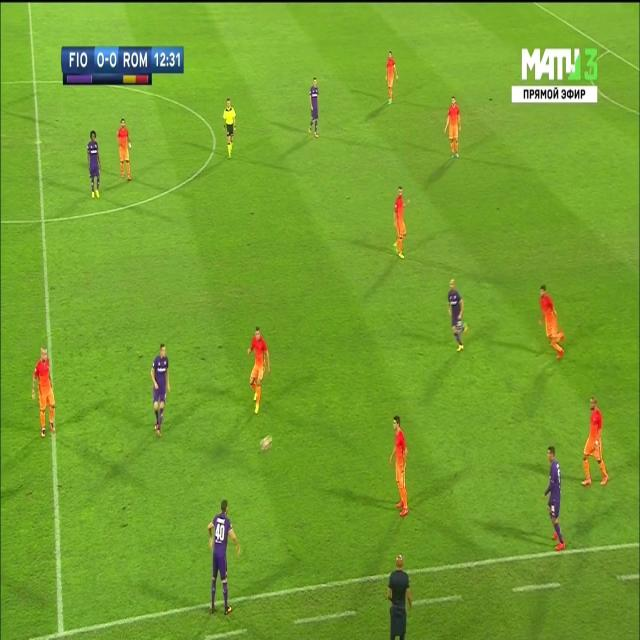Ball: (259, 432, 274, 458)
Player: (206, 495, 243, 619), (578, 394, 610, 492), (542, 444, 568, 558), (30, 342, 58, 441), (388, 412, 412, 520), (147, 341, 173, 440), (537, 280, 568, 362), (245, 323, 272, 417), (444, 276, 473, 355), (391, 183, 412, 264), (442, 92, 464, 163), (84, 128, 102, 204), (115, 115, 134, 183), (382, 48, 400, 110), (308, 76, 322, 139)
Referee: (222, 95, 238, 163)
